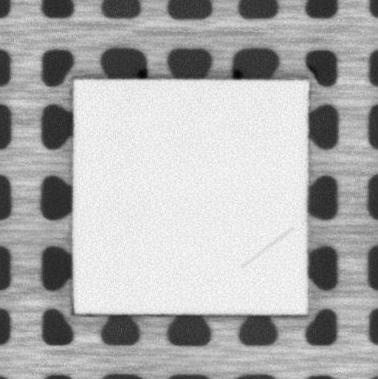DIE_CRACK: (240, 225, 294, 269)
